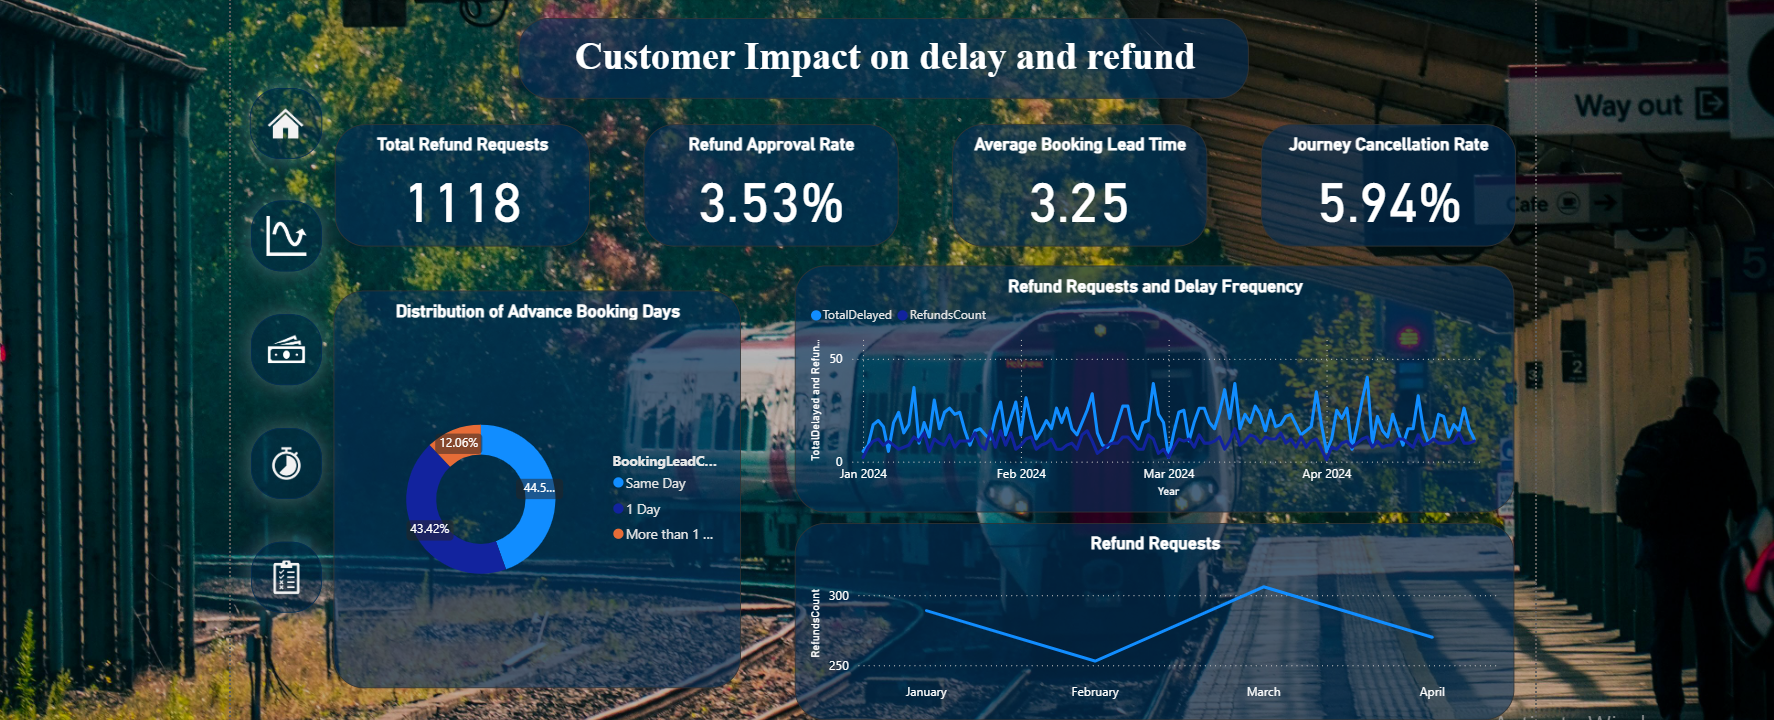

The dashboard page shown, as its layout file describes it:
{"tool":"powerbi","page":{"name":" Customer Impact on delay and refund","canvas":[1280,720],"ordinal":3},"visuals":[{"type":"lineChart","title":"Refund Requests ","fields":{"Y":["_measure.RefundsCount"],"Category":["Calendar.Date.Variation.Date Hierarchy.Month"]},"box":[553.5,515.1,706.8,193.2],"z":0},{"type":"textbox","title":" Customer Impact on delay and refund","box":[282.5,19.6,716.6,79.5],"z":1000},{"type":"card","title":"Average Booking Lead Time","fields":{"Values":["_measure.AvgDelay_Refunded"]},"box":[708,123.7,250,120],"z":2000},{"type":"card","title":"Refund Approval Rate","fields":{"Values":["_measure.RefundRate"]},"box":[404.8,123.7,250,120],"z":3000},{"type":"card","title":"Total Refund Requests","fields":{"Values":["_measure.RefundsCount"]},"box":[101.5,123.7,250,120],"z":4000},{"type":"lineChart","title":"Refund Requests and Delay Frequency","fields":{"Category":["Calendar.Date.Variation.Date Hierarchy.Year","Calendar.Date.Variation.Date Hierarchy.Quarter","Calendar.Date.Variation.Date Hierarchy.Month","Calendar.Date.Variation.Date Hierarchy.Day"],"Y":["_measure.TotalDelayed","_measure.RefundsCount"]},"box":[553.5,263.2,706.8,242.1],"z":5000},{"type":"donutChart","title":"Distribution of Advance Booking Days","fields":{"Category":["Ticket Table.BookingLeadCategory"],"Y":["CountNonNull(Ticket Table.Transaction ID)"]},"box":[101,287.6,399.9,390.1],"z":6000},{"type":"card","title":"Journey Cancellation Rate","fields":{"Values":["_measure.CancelRate"]},"box":[1011.3,123.7,250,120],"z":7000},{"type":"image","box":[19.3,199.3,69.7,69.7],"z":8000},{"type":"image","box":[19.3,310.6,69.7,69.7],"z":9000},{"type":"image","box":[19.3,533.2,69.7,69.7],"z":10000},{"type":"image","box":[18.7,88,70.9,69.7],"z":11000},{"type":"image","box":[19.3,421.9,69.7,69.7],"z":12000}]}

Visuals, with their boxes on the page's 1280x720 design canvas (x1, y1, x2, y2). These are canvas units, not pixel positions in the 1774x720 screenshot, which may show the page scaled, cropped or inside an application window:
"Refund Requests " lineChart: <bbox>554, 515, 1260, 708</bbox>
" Customer Impact on delay and refund" textbox: <bbox>282, 20, 999, 99</bbox>
"Average Booking Lead Time" card: <bbox>708, 124, 958, 244</bbox>
"Refund Approval Rate" card: <bbox>405, 124, 655, 244</bbox>
"Total Refund Requests" card: <bbox>102, 124, 352, 244</bbox>
"Refund Requests and Delay Frequency" lineChart: <bbox>554, 263, 1260, 505</bbox>
"Distribution of Advance Booking Days" donutChart: <bbox>101, 288, 501, 678</bbox>
"Journey Cancellation Rate" card: <bbox>1011, 124, 1261, 244</bbox>
image: <bbox>19, 199, 89, 269</bbox>
image: <bbox>19, 311, 89, 380</bbox>
image: <bbox>19, 533, 89, 603</bbox>
image: <bbox>19, 88, 90, 158</bbox>
image: <bbox>19, 422, 89, 492</bbox>
